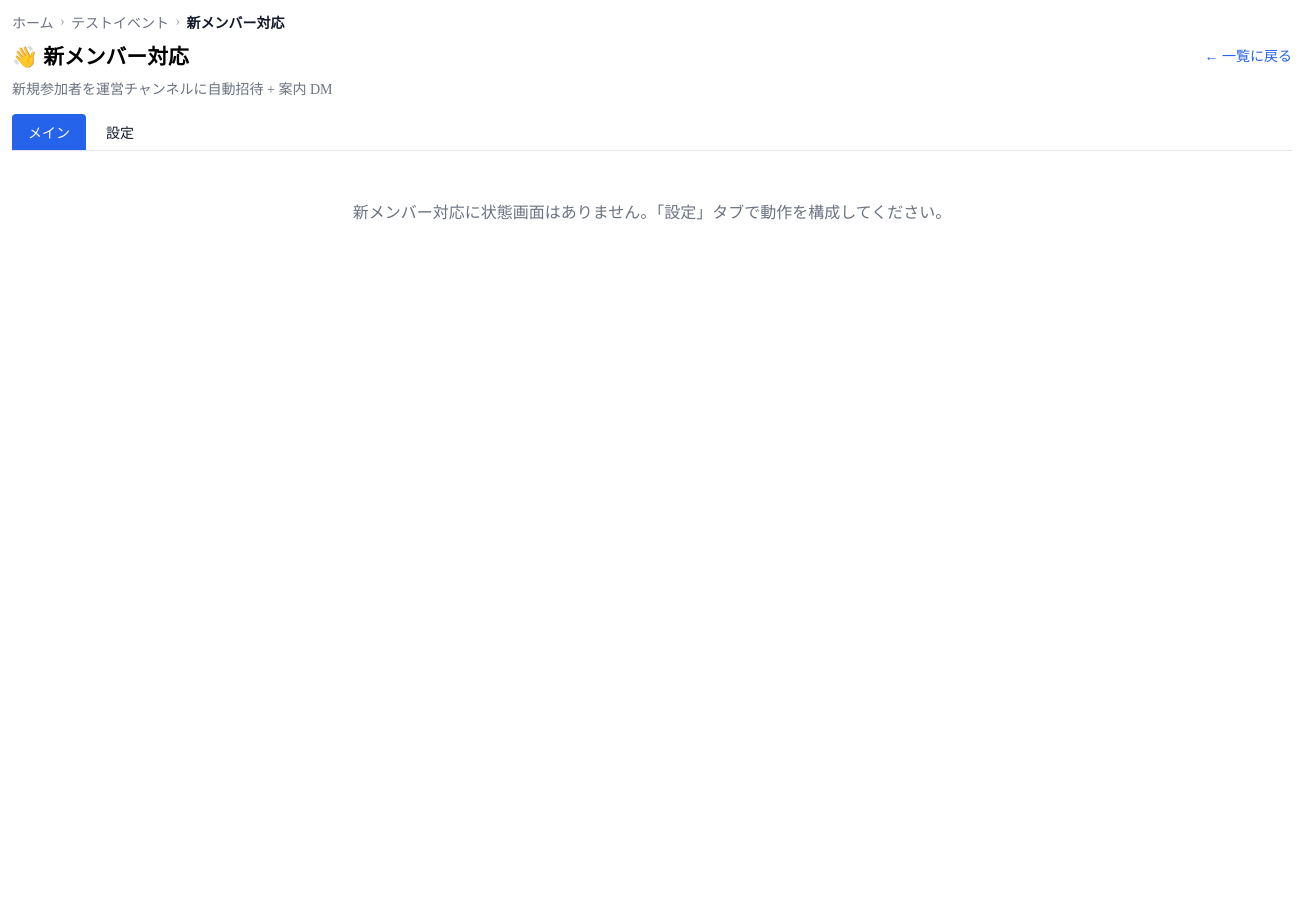
ActionDetailPage smoke (Phase4-0 番人) › member_welcome: main は状態なしプレースホルダ、subTab クリックで設定へ切替
expect the heading "👋 新メンバー対応" is shown: met, box [12,40,189,70]
expect the text "新メンバー対応に状態画面はありません。「設定」タブで動作を構成してください。" is shown: met, box [353,204,951,221]
Click the button "設定" at (120, 132), box [90,114,150,150]
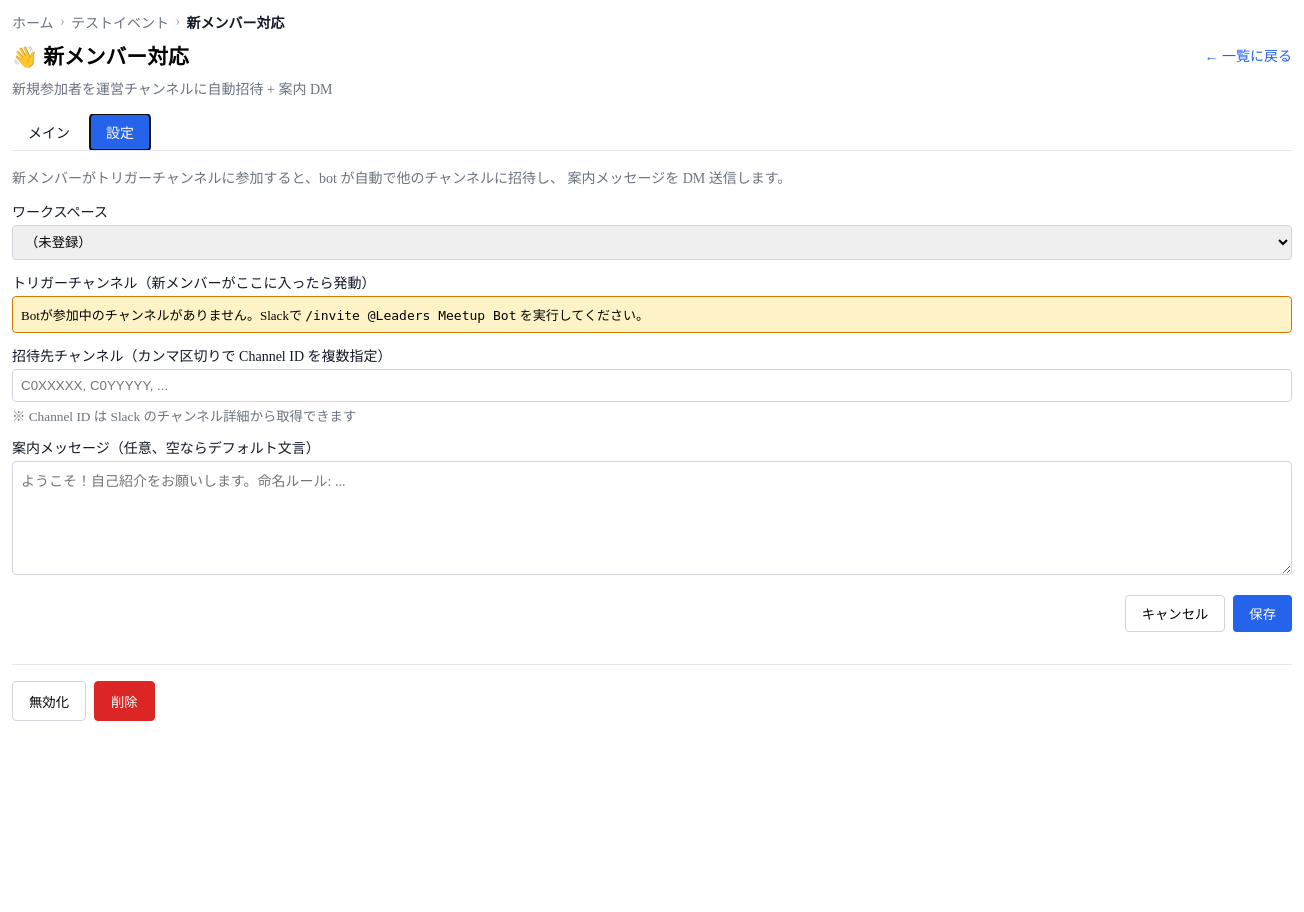
expect the text "ワークスペース" is shown: met, box [12,205,108,220]
expect the button "削除" is shown: met, box [94,681,155,721]
expect the button "無効化" is shown: met, box [12,681,86,721]
